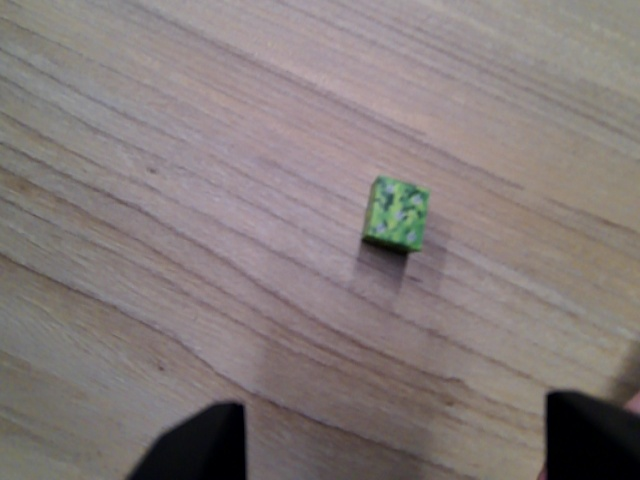grass: (356, 175, 435, 252)
